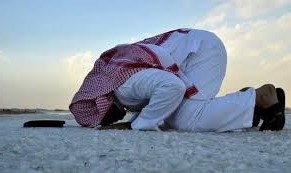sujud: (76, 29, 285, 131)
